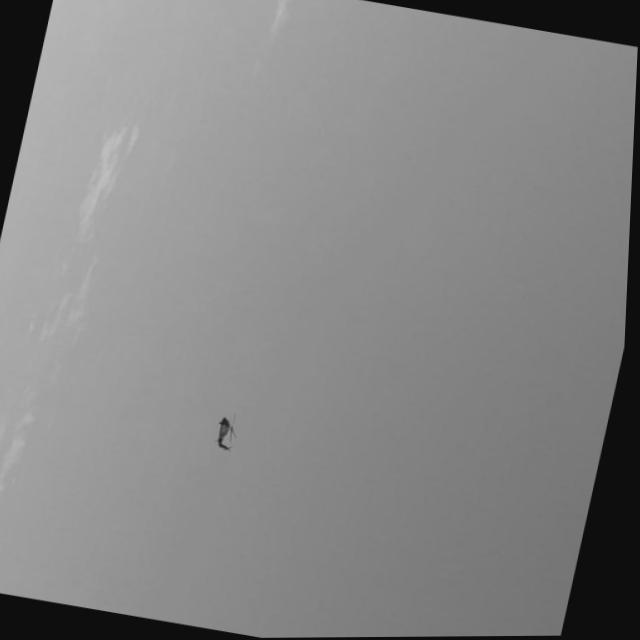helikopter: (167, 366, 294, 477)
